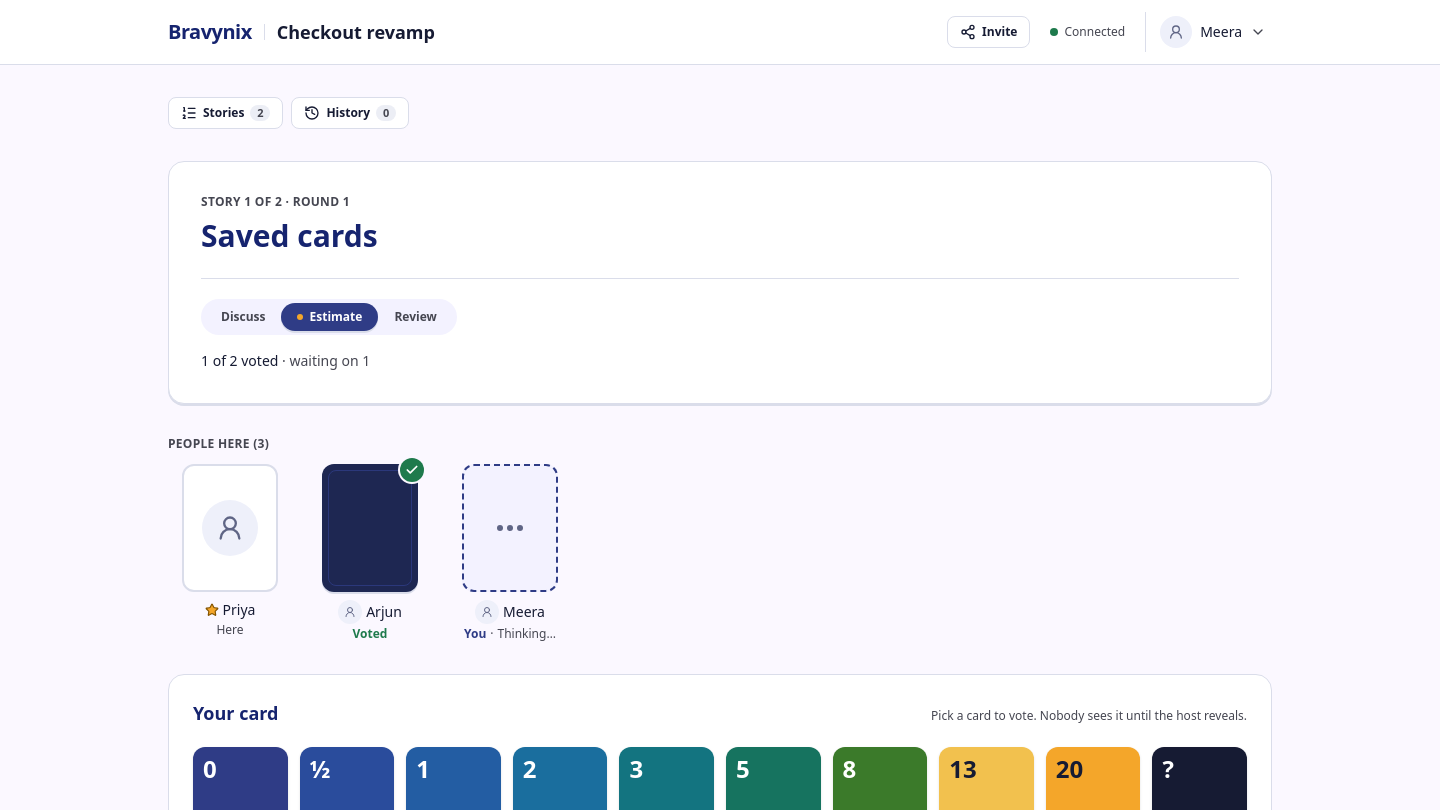
Test: RoomWorkspace › shows connection details from the room menu, without room content (FR-053)
The width and height of the screenshot is (1440, 810).
Click the button "Meera" at (1213, 32), box [1154,12,1272,52]
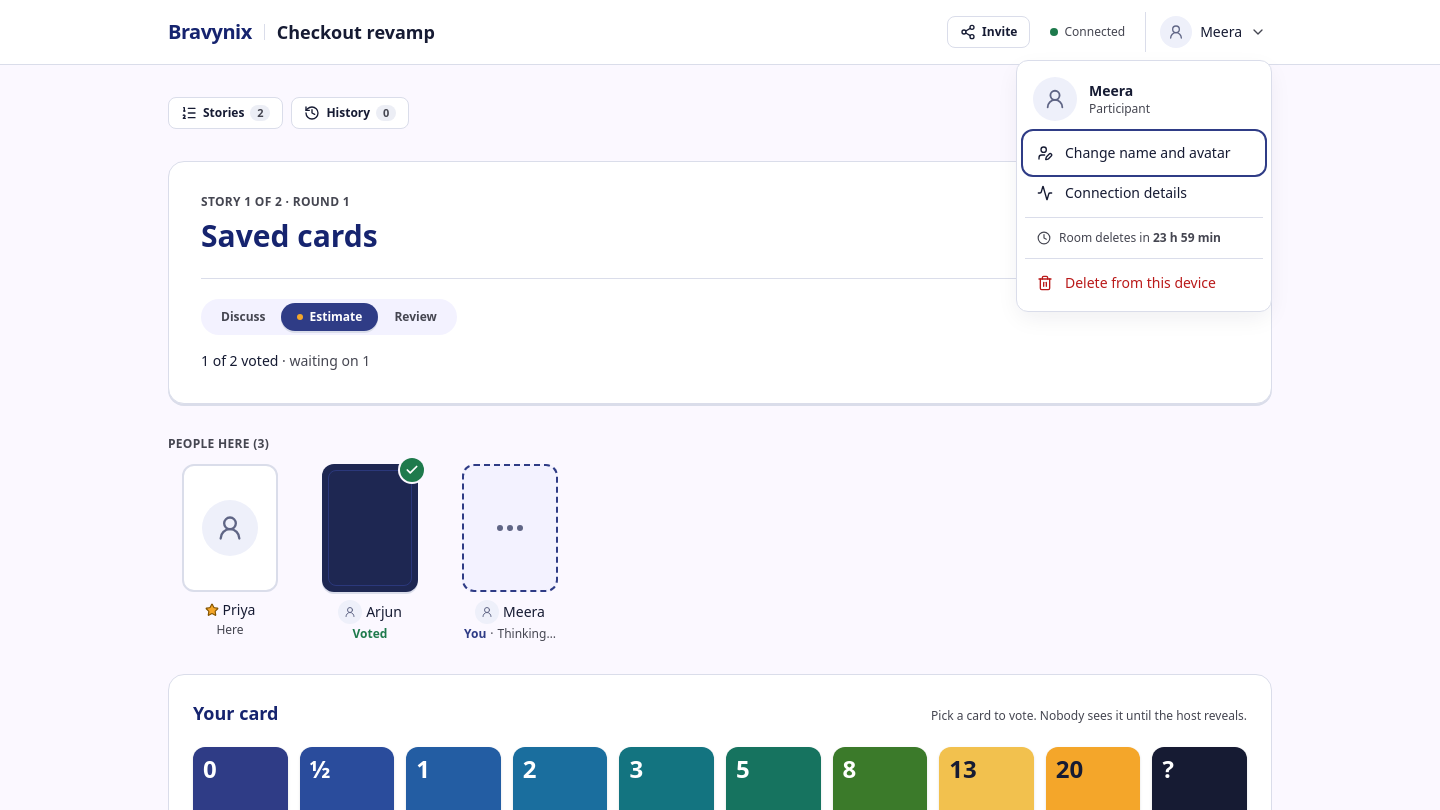
Click the button "Connection details" at (1144, 193), box [1025,173,1263,213]
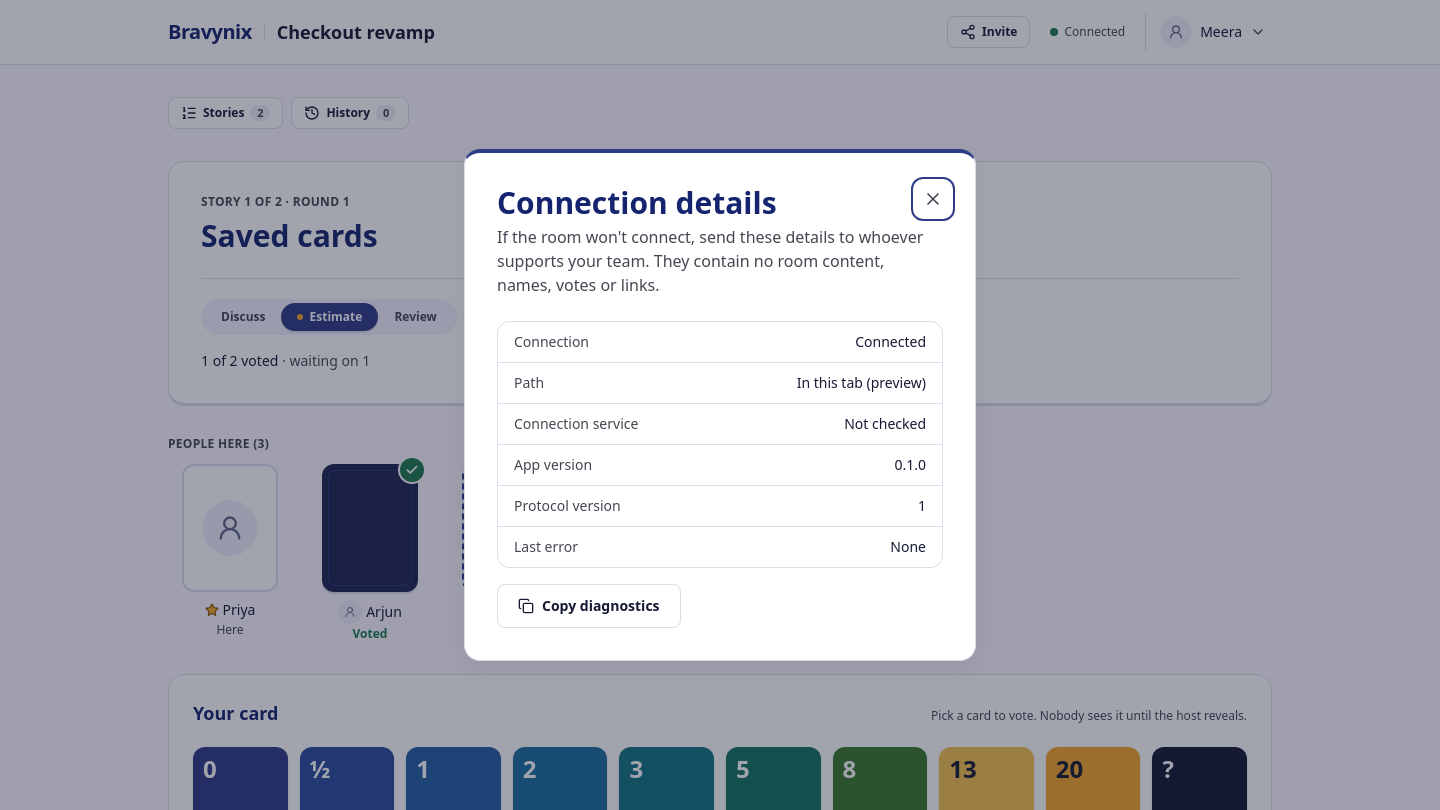
Check: the button "Copy diagnostics" is shown, box [497,584,680,628]
